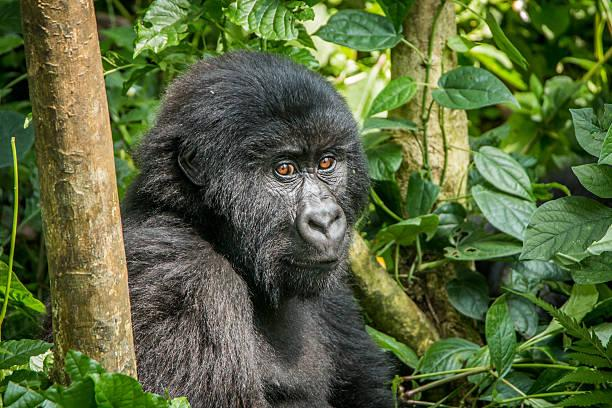goriile_montagne: (119, 12, 399, 408)
